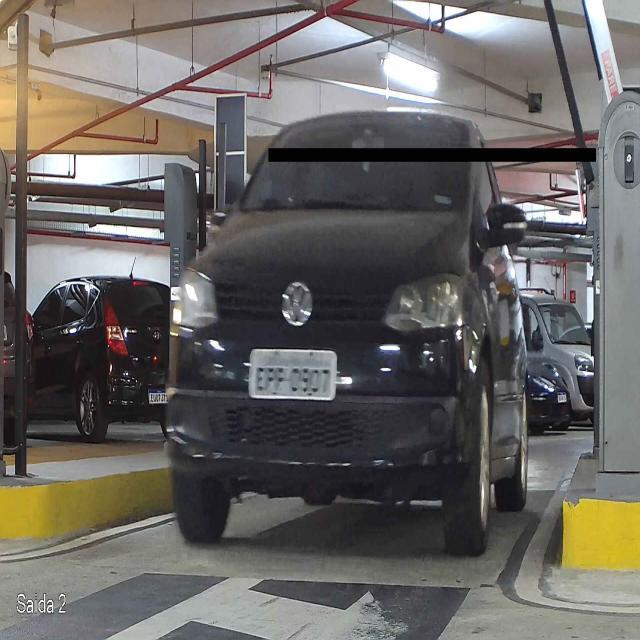old_plate: (245, 344, 343, 404)
